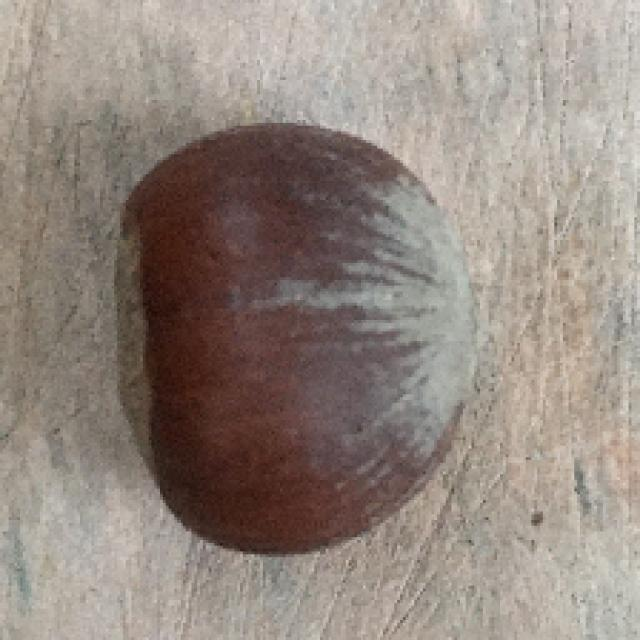damagedHazelnut: (81, 118, 495, 557)
